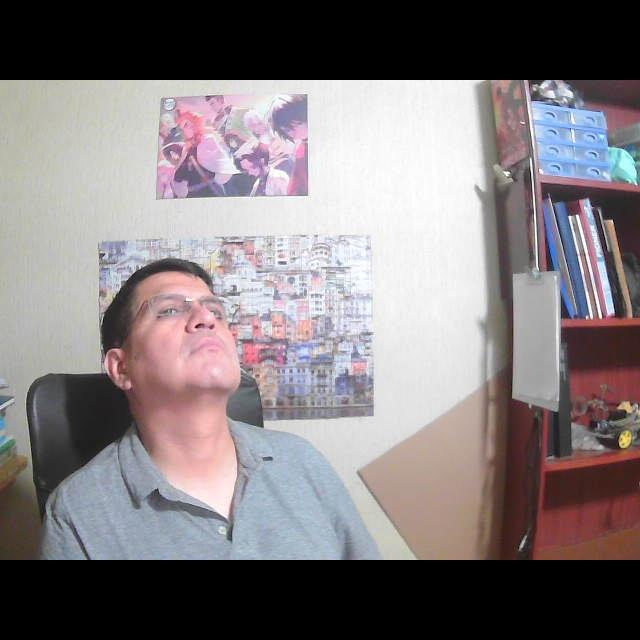cesar: (82, 242, 268, 462)
